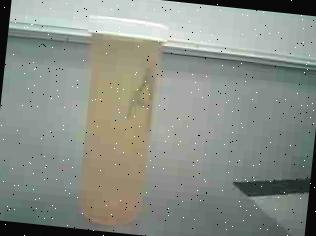Bottle A: (59, 7, 174, 233)
